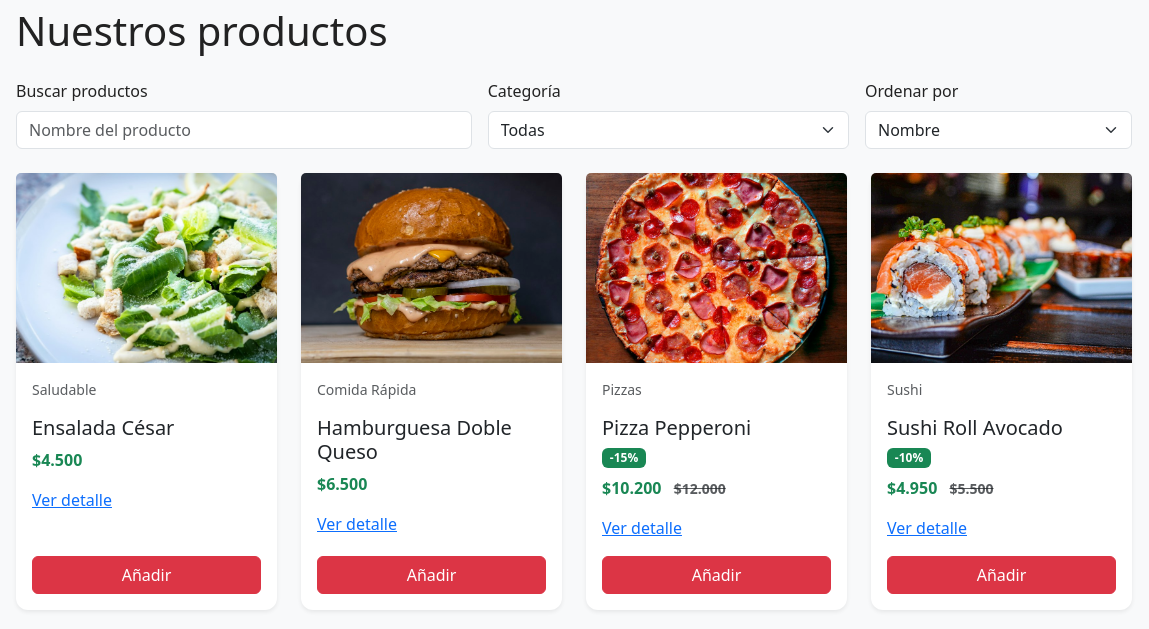
Test: Componentes React: renderizado, props, estado y eventos › filtra el catálogo al escribir una búsqueda
Type "Sushi" into the search field labelled "Buscar productos".
click(244, 130); type("Sushi")  # box [16,111,472,149]
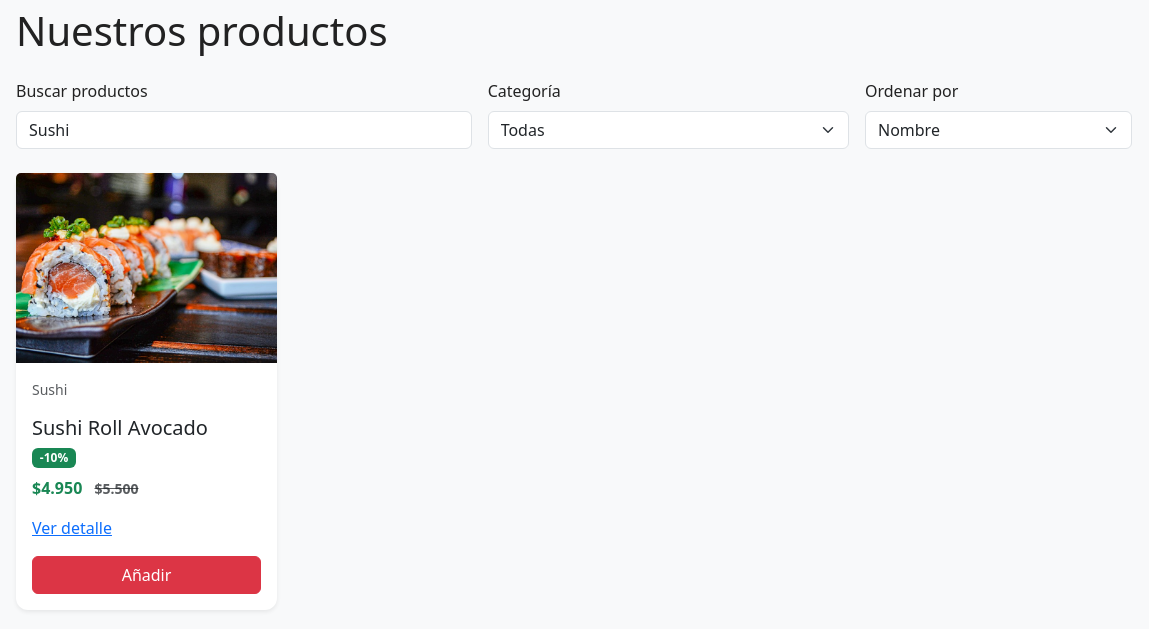
Expected: the heading "Sushi Roll Avocado" is shown, [32,414,208,441]
Now the heading "Pizza Pepperoni" is gone
